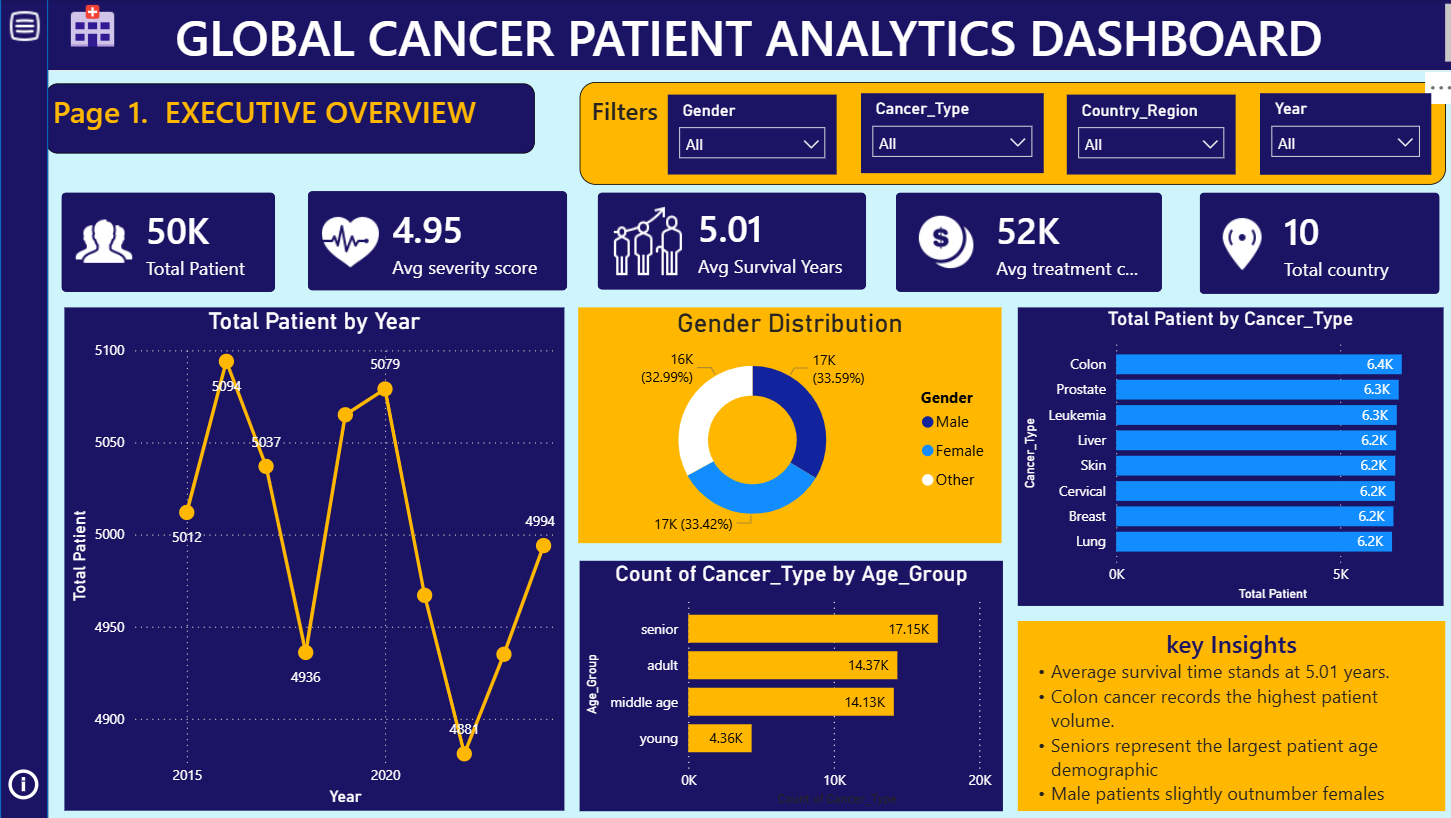

The page's visual inventory and layout, read from the dashboard file:
{"tool":"powerbi","page":{"name":"Executive overview","canvas":[1280,720],"ordinal":0},"visuals":[{"type":"shape","box":[0,0,42.2,720],"z":0,"group":"g1"},{"type":"textbox","box":[507.5,73.2,758.7,89.9],"z":0},{"type":"textbox","box":[39.9,0,1237.9,63.2],"z":1000},{"type":"actionButton","title":"info","box":[2.2,670,37.8,35.6],"z":1000,"group":"g1"},{"type":"actionButton","title":"menu","box":[0,0,42.9,48.6],"z":2000,"group":"g1"},{"type":"image","box":[56.7,0,49.2,48.3],"z":2000},{"type":"textbox","box":[39.9,74.9,427.6,61.6],"z":3000},{"type":"slicer","fields":{"Values":["public cancer_patients.Gender"]},"box":[585.2,85.1,148.1,69.9],"z":4000},{"type":"cardVisual","fields":{"Data":["public cancer_patients.Average Survival Years"]},"box":[505.8,153.1,269.6,119.8],"z":5000},{"type":"cardVisual","fields":{"Data":["public cancer_patients.Avg treatment cost"]},"box":[767.1,153.1,267.9,121.5],"z":6000},{"type":"cardVisual","fields":{"Data":["public cancer_patients.Total country"]},"box":[1033.3,153.1,244.6,123.1],"z":7000},{"type":"cardVisual","fields":{"Data":["public cancer_patients.Avg severity score"]},"box":[253.1,151.6,261.4,122],"z":8000},{"type":"cardVisual","fields":{"Data":["public cancer_patients.Total Patient"]},"box":[36.6,153.1,221.3,121.5],"z":9000},{"type":"lineChart","fields":{"Y":["public cancer_patients.Total Patient"],"Category":["public cancer_patients.Year"]},"box":[56.6,271.2,437.6,440.9],"z":10000},{"type":"donutChart","title":"Gender Distribution","fields":{"Category":["public cancer_patients.Gender"],"Y":["CountNonNull(public cancer_patients.Gender)"]},"box":[505.8,271.2,371,206.3],"z":13000},{"type":"barChart","fields":{"Category":["public cancer_patients.Cancer_Type"],"Y":["public cancer_patients.Total Patient"]},"box":[891.8,271.2,372.7,261.2],"z":14000},{"type":"clusteredBarChart","fields":{"Y":["CountNonNull(public cancer_patients.Cancer_Type)"],"Category":["public cancer_patients.Age_Group"]},"box":[507.5,492.5,371,219.6],"z":15000},{"type":"textbox","box":[891.8,545.8,374.4,166.4],"z":16000},{"type":"slicer","fields":{"Values":["public cancer_patients.Cancer_Type"]},"box":[754,83.9,159.7,69.9],"z":17000},{"type":"slicer","fields":{"Values":["public cancer_patients.Country_Region"]},"box":[934.4,85.1,148.1,69.9],"z":18000},{"type":"slicer","fields":{"Values":["public cancer_patients.Year"]},"box":[1103.2,83.9,149.8,71.5],"z":19000},{"type":"group","id":"g1","title":"menu bar","box":[0,0,42.9,720],"z":19500}]}

Visuals, with their boxes in screenshot pixels (x1, y1, x2, y2), scaled from the page's 1280x720 canvas onto the 1451x818 screenshot:
shape: 0/0/48/817
textbox: 575/83/1435/185
textbox: 45/0/1449/72
"info" actionButton: 2/761/45/802
"menu" actionButton: 0/0/49/55
image: 64/0/120/55
textbox: 45/85/530/155
slicer - public cancer_patients.Gender: 663/97/831/176
cardVisual - public cancer_patients.Average Survival Years: 573/174/879/310
cardVisual - public cancer_patients.Avg treatment cost: 870/174/1173/312
cardVisual - public cancer_patients.Total country: 1171/174/1449/314
cardVisual - public cancer_patients.Avg severity score: 287/172/583/311
cardVisual - public cancer_patients.Total Patient: 41/174/292/312
lineChart - public cancer_patients.Total Patient x public cancer_patients.Year: 64/308/560/809
"Gender Distribution" donutChart: 573/308/994/542
barChart - public cancer_patients.Cancer_Type x public cancer_patients.Total Patient: 1011/308/1433/605
clusteredBarChart - CountNonNull(public cancer_patients.Cancer_Type) x public cancer_patients.Age_Group: 575/560/996/809
textbox: 1011/620/1435/809
slicer - public cancer_patients.Cancer_Type: 855/95/1036/175
slicer - public cancer_patients.Country_Region: 1059/97/1227/176
slicer - public cancer_patients.Year: 1251/95/1420/177
"menu bar" group: 0/0/49/817
